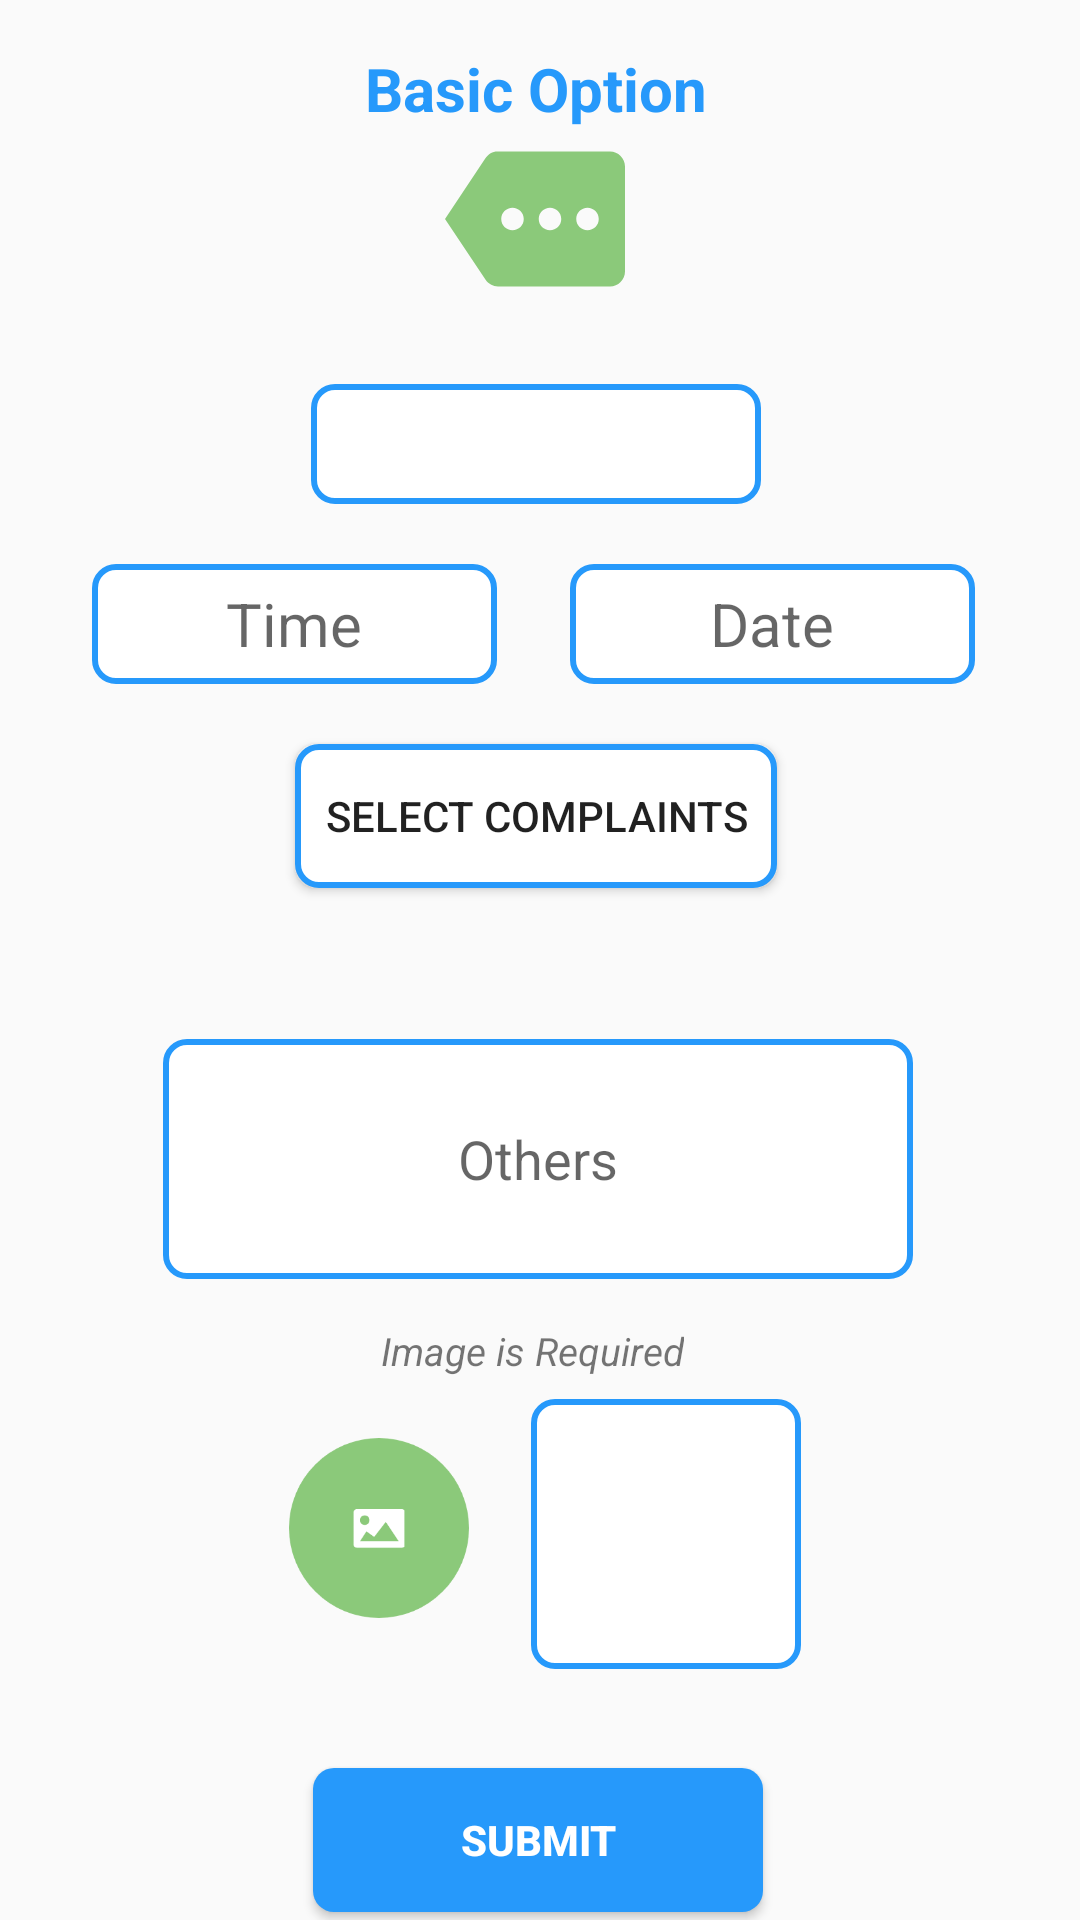

Screen size 1080w x 1920h. Icon name, then its center in pixels as (x,y):
more: (535,219)
